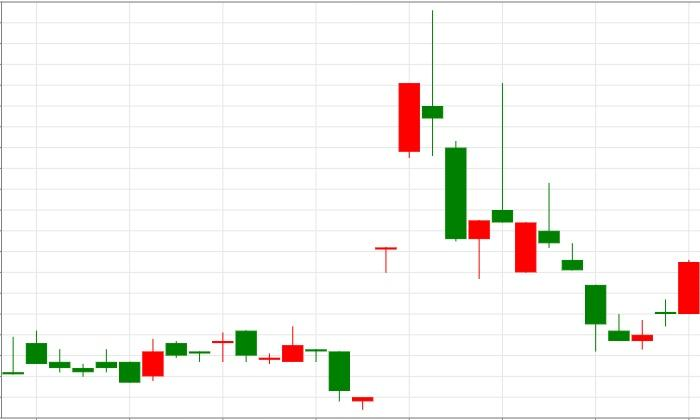evening_star_fall: (328, 9, 467, 410)
